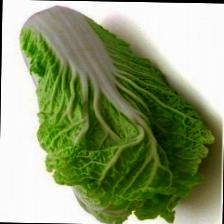cabbage: (14, 4, 216, 224)
